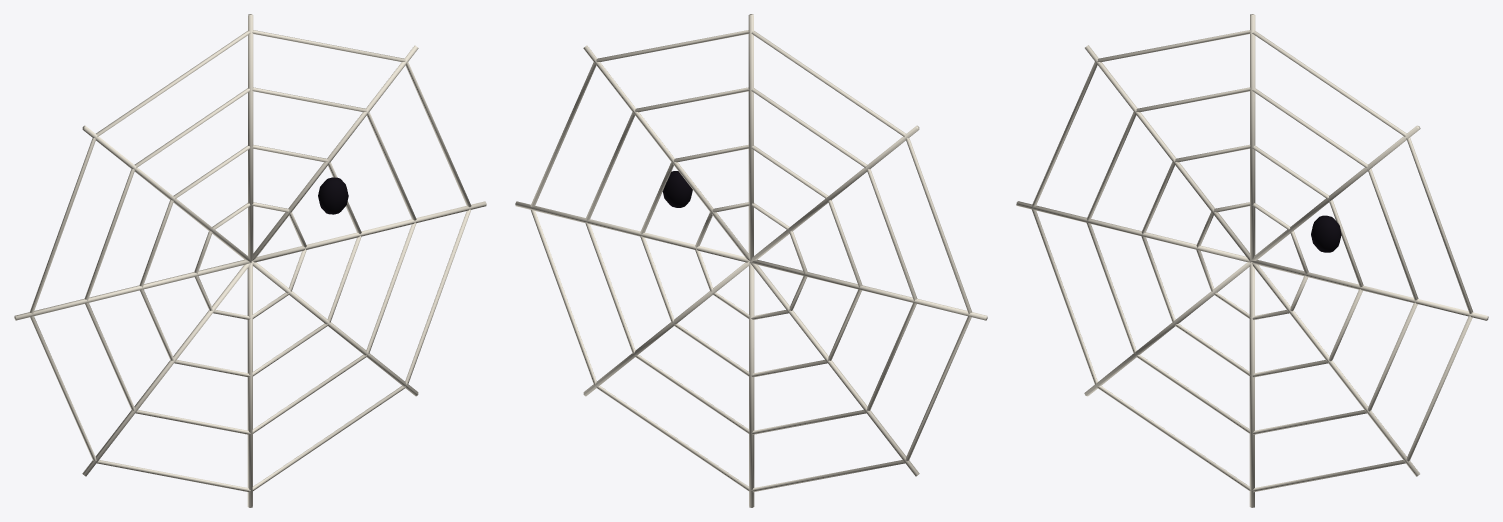
The model's file is spider_web.obj.
3 views of the same model, side by side, from view 1: azimuth 30°, elevation 25°; view 2: azimuth 150°, elevation 25°; view 3: azimuth 330°, elevation 25° (orthographic).
Parts seen in each view (by area): view 1: LH_spider_web; view 2: LH_spider_web; view 3: LH_spider_web.
Boxes of the visible parts, bbox=[...] form: LH_spider_web: bbox=[14, 14, 486, 507]; LH_spider_web: bbox=[515, 14, 987, 507]; LH_spider_web: bbox=[1016, 14, 1488, 507].
Size of the model in its own units: 0.6 by 0.6 by 0.0285.
